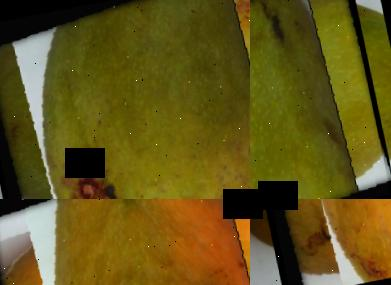PartiallyRipe: (0, 199, 250, 285), (250, 199, 391, 285)
Unripe: (0, 0, 250, 199), (250, 0, 391, 199)
